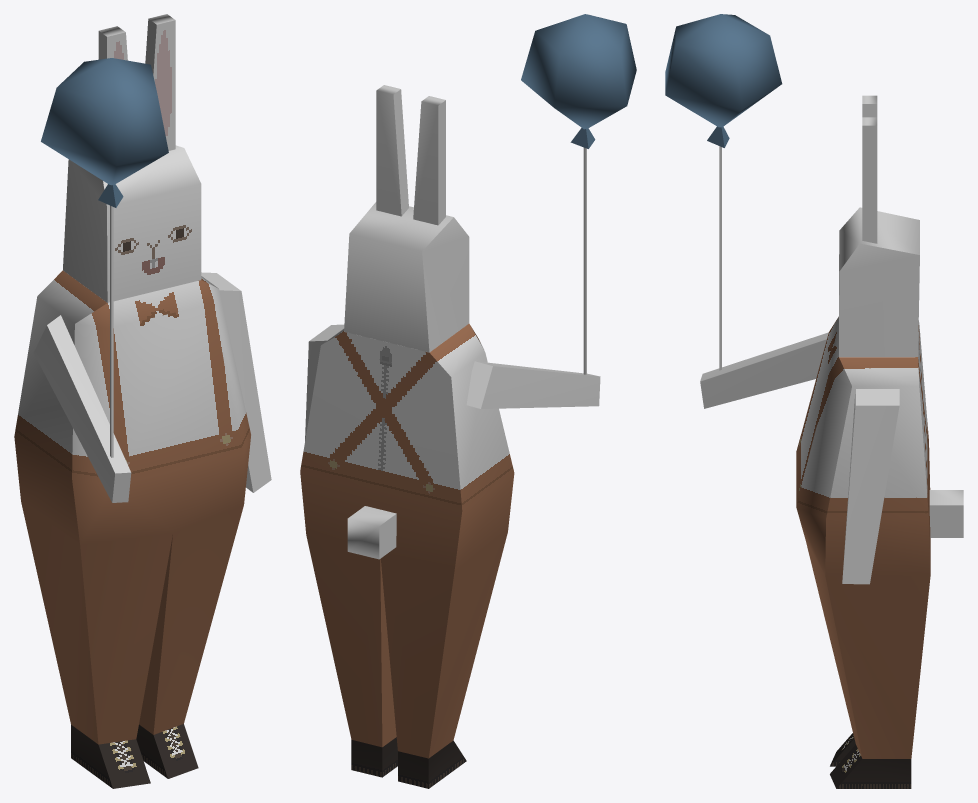
The model's file is 02d9_Rabbit-Man.glb.
The picture shows the model from 3 angles, left to right: view 1: azimuth 30°, elevation 25°; view 2: azimuth 150°, elevation 25°; view 3: azimuth 270°, elevation 25°; orthographic projection. The views are drawn at different scales.
Visible parts, largest first — view 1: part_0; view 2: part_0; view 3: part_0.
Part boxes in pixels (x1=…): part_0: x1=14, y1=14, x2=271, y2=788; part_0: x1=300, y1=14, x2=636, y2=788; part_0: x1=665, y1=14, x2=963, y2=788.
Size of the model in its own units: 0.8824 by 2.33 by 0.8901.
1 material, 1 textured.
